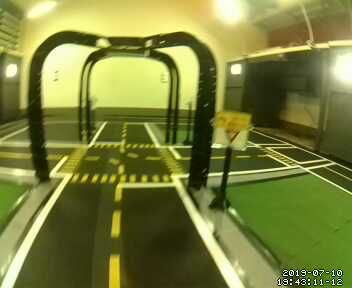Turn Yield: (212, 109, 249, 150)
